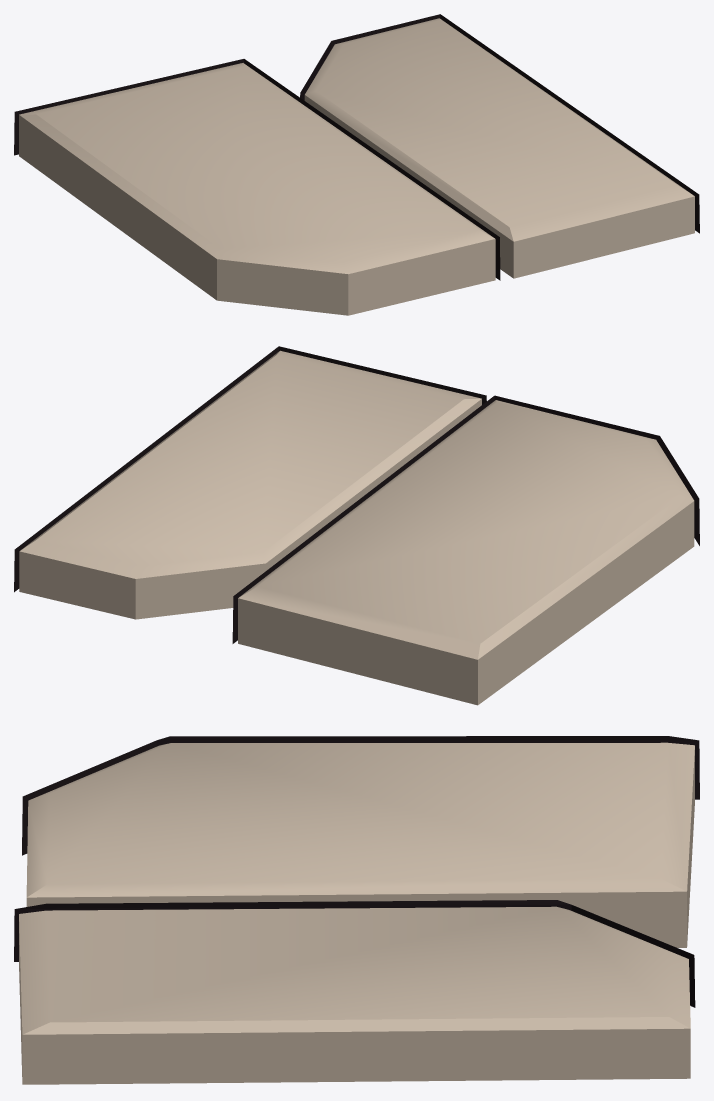
File: SM_RoadTile_02.fbx
The picture shows the model from 3 angles, top to bottom: view 1: azimuth 30°, elevation 25°; view 2: azimuth 150°, elevation 25°; view 3: azimuth 270°, elevation 25°; orthographic projection. The views are drawn at different scales.
Visible parts, largest first — view 1: SM_RoadTile_02; view 2: SM_RoadTile_02; view 3: SM_RoadTile_02.
Boxes of the visible parts, bbox=[...] form: SM_RoadTile_02: bbox=[14, 14, 699, 315]; SM_RoadTile_02: bbox=[14, 346, 699, 705]; SM_RoadTile_02: bbox=[14, 736, 699, 1084].
Bounding box in the file's own units: 0.9868 × 0.1117 × 0.9942.
